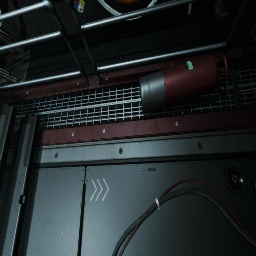NitrogenTank ,: (139, 53, 228, 112)
